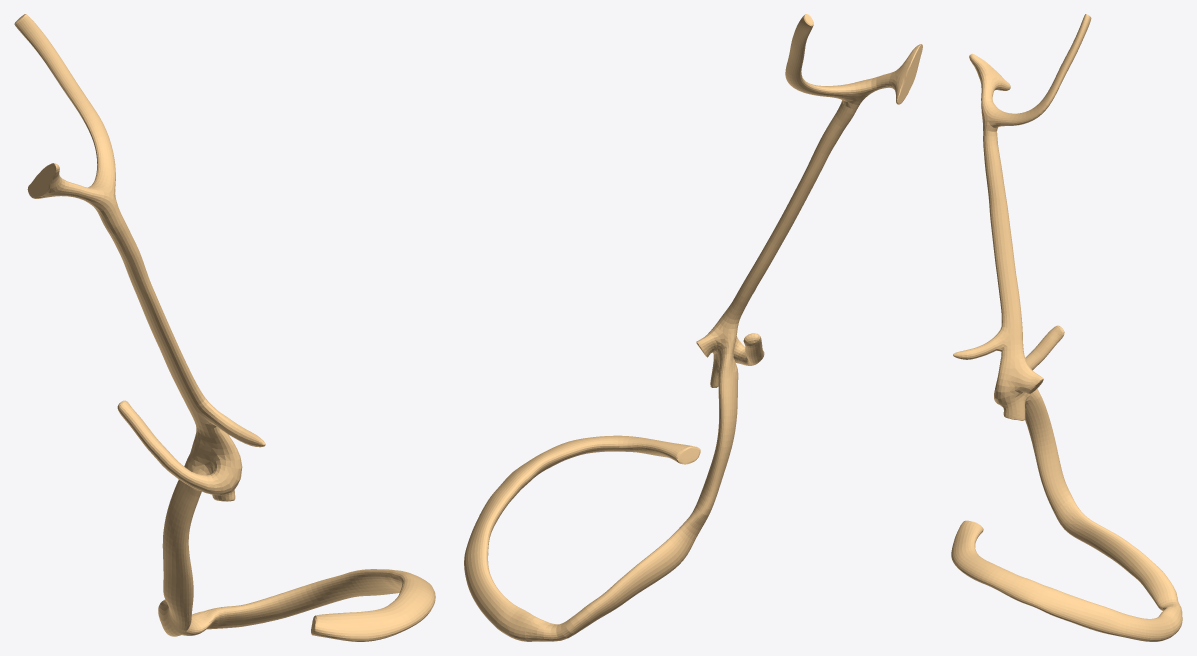
The picture shows the model from 3 angles, left to right: view 1: azimuth 30°, elevation 25°; view 2: azimuth 150°, elevation 25°; view 3: azimuth 270°, elevation 25°; orthographic projection. The views are drawn at different scales.
Parts seen in each view (by area): view 1: N_C7; view 2: N_C7; view 3: N_C7.
Boxes of the visible parts, x1,y1,x2,y2 form: N_C7: (14, 14, 435, 641); N_C7: (464, 14, 922, 641); N_C7: (951, 14, 1182, 641).
Size of the model in its own units: 0.00208 by 0.00339 by 0.00136.
